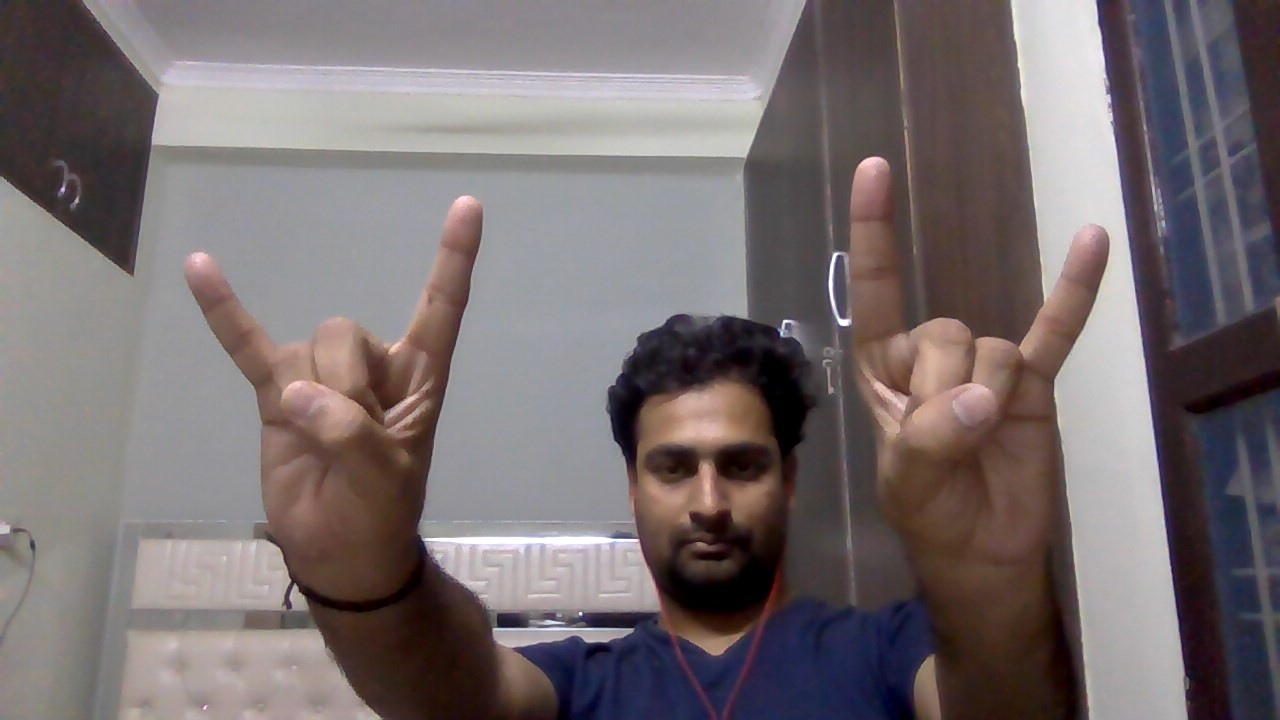Select All: (180, 177, 514, 575), (823, 149, 1123, 575)
